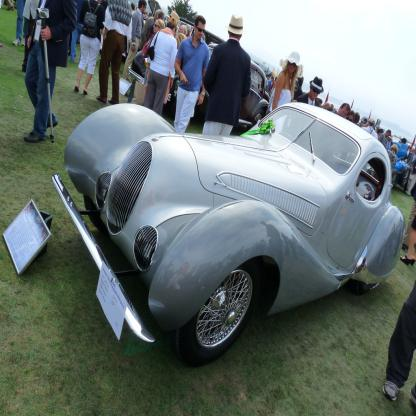Car: (60, 84, 390, 366), (127, 15, 227, 101), (200, 43, 270, 132), (100, 0, 168, 59), (367, 140, 411, 188)
